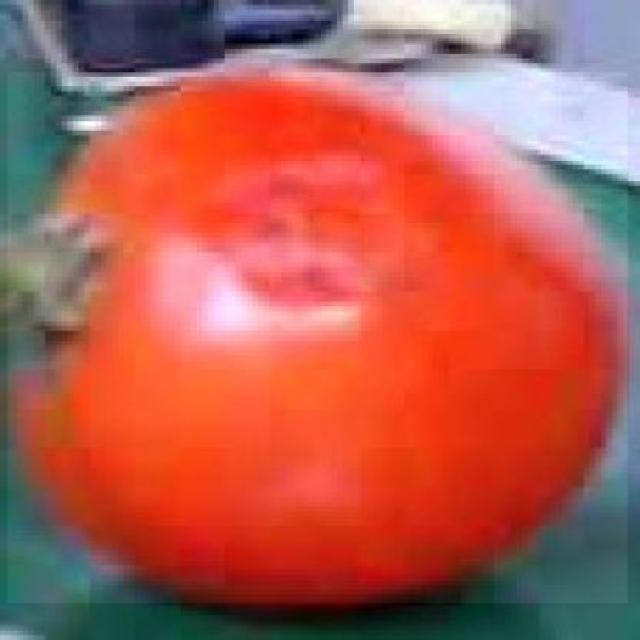tomato: (25, 74, 620, 601)
